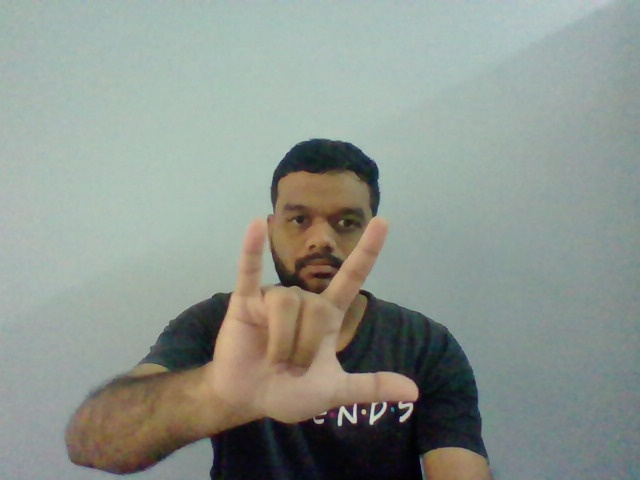I love you: (217, 217, 421, 425)
